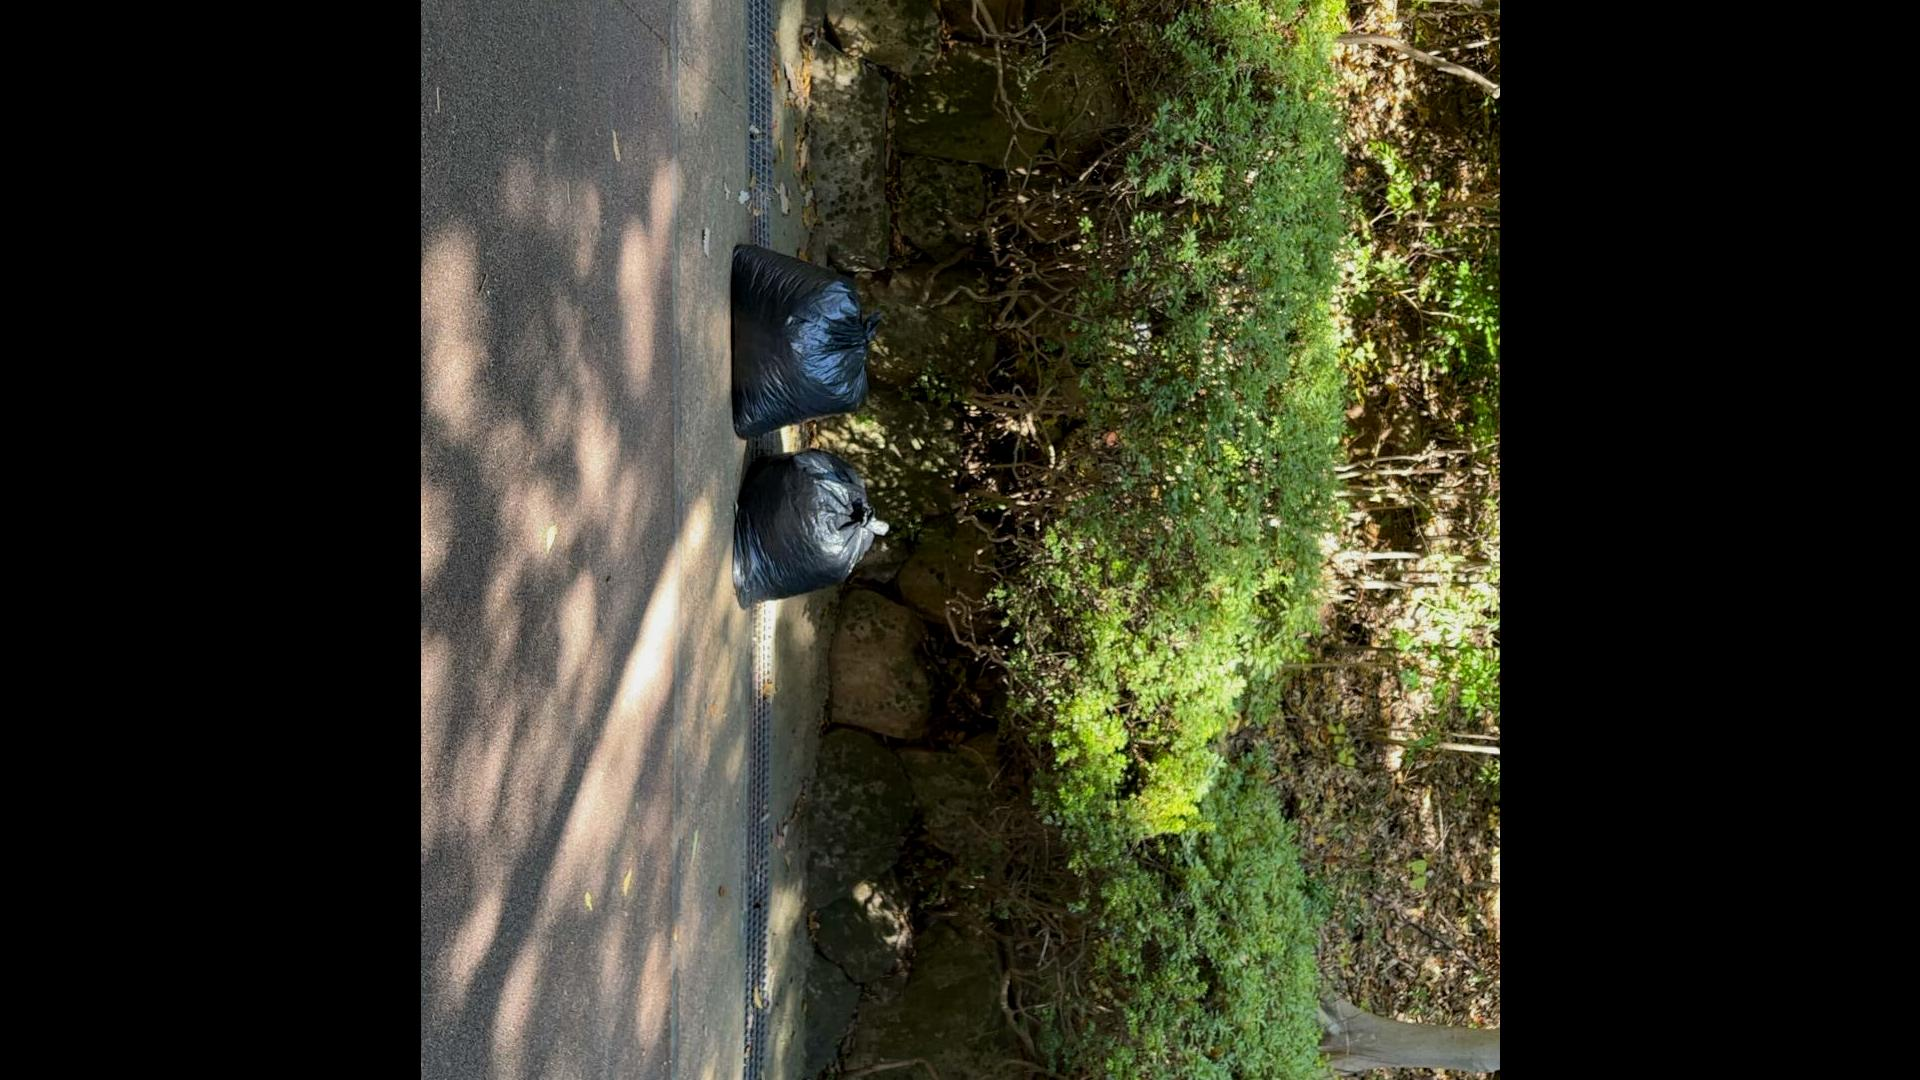black_bag: (721, 233, 882, 443), (723, 440, 895, 608)
